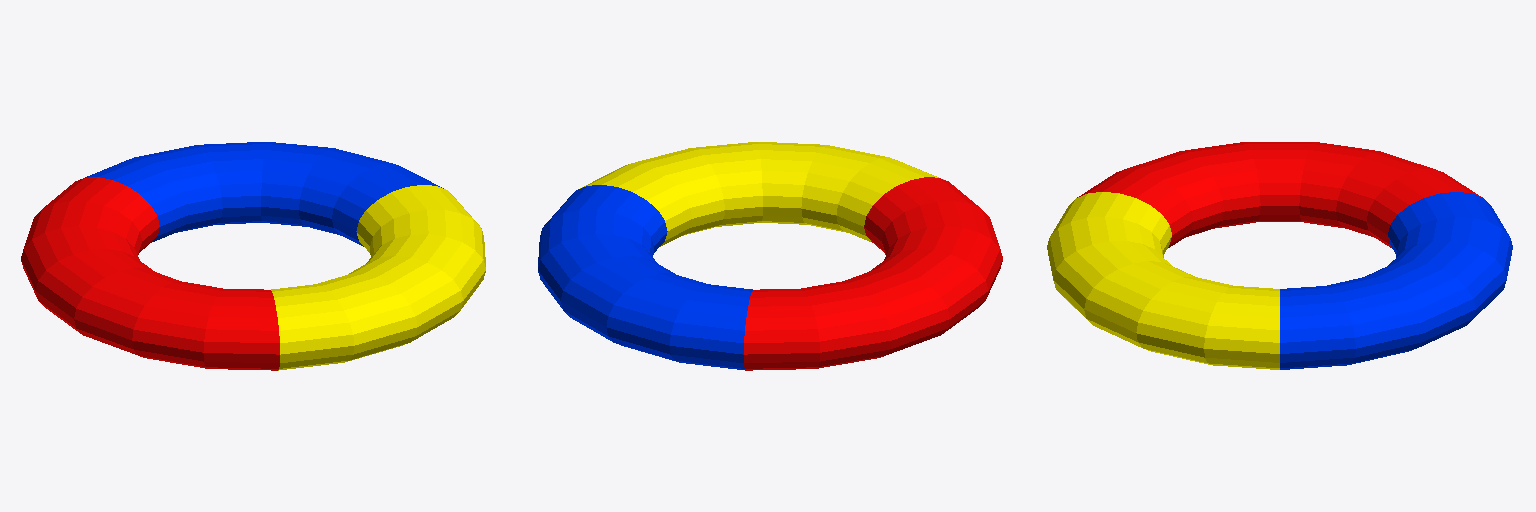
3 views of the same model, side by side, from view 1: azimuth 30°, elevation 25°; view 2: azimuth 150°, elevation 25°; view 3: azimuth 270°, elevation 25° (orthographic).
Visible parts, largest first — view 1: InnerTube; view 2: InnerTube; view 3: InnerTube.
Part boxes in pixels (x1,y1,x2,y2): InnerTube: (21,142,485,370); InnerTube: (538,142,1002,370); InnerTube: (1047,142,1512,369).
Bounding box in the file's own units: 1.34 × 0.206 × 1.35.
Materials: 3 (3 with a texture image).